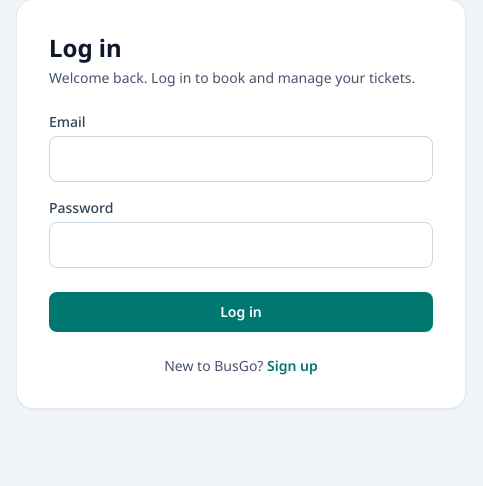
LoginPage › explains a wrong password in plain words
Type "kasun@example.lk" into the field labelled "Email" at (241, 159), box top-left (49, 136), bottom-right (433, 182)
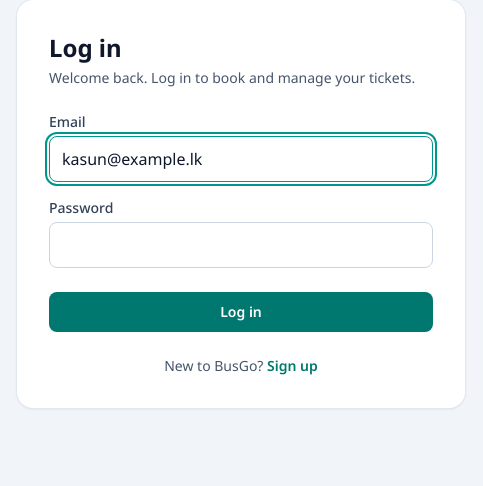
Type "wrong" into the password field labelled "Password" at (241, 245), box top-left (49, 222), bottom-right (433, 268)
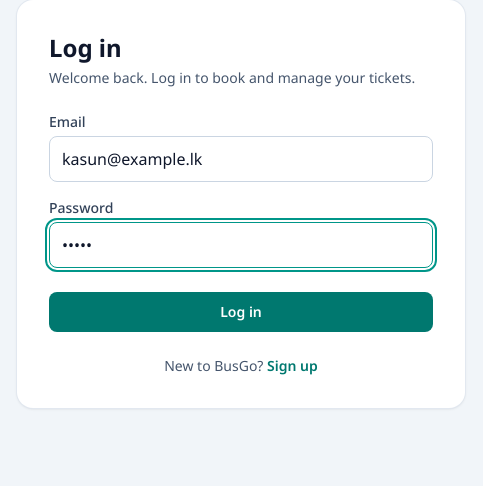
Click the button "Log in" at (241, 312), box top-left (49, 292), bottom-right (433, 332)
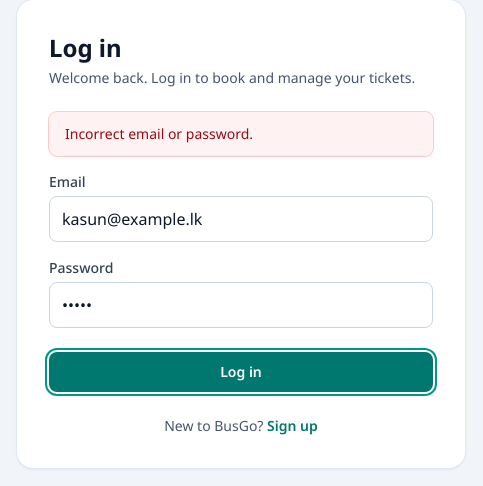
Expected: the message reads "Incorrect email or password.", top-left (65, 124), bottom-right (253, 143)
